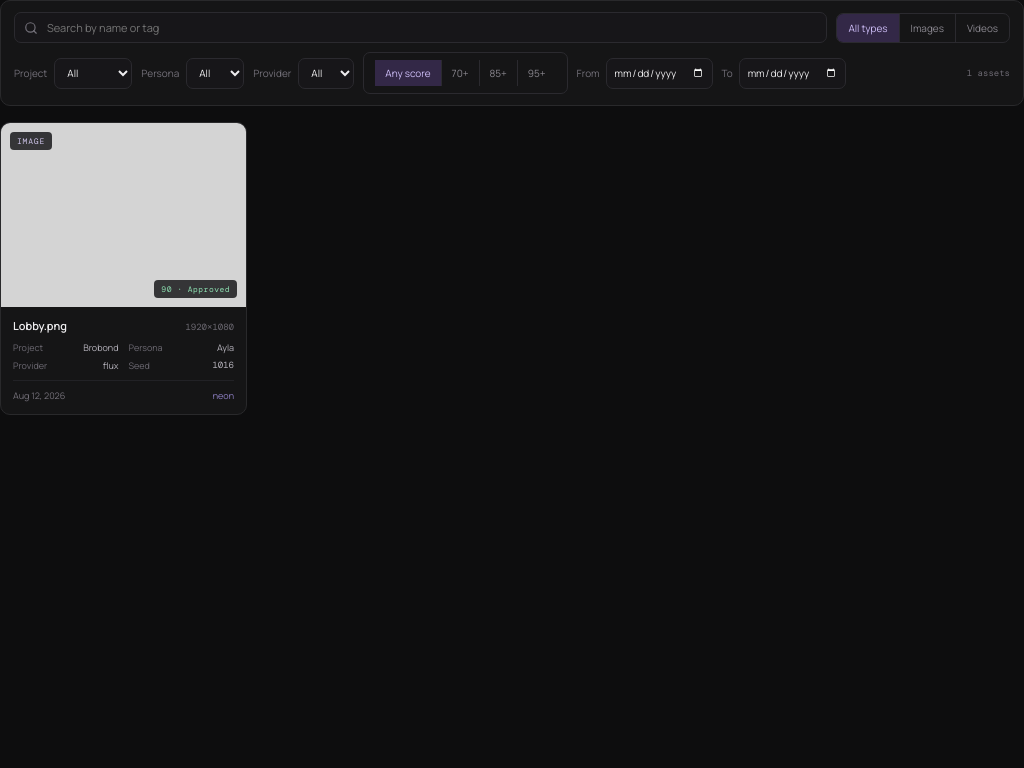
Test: preview › opens from a card and closes back to the grid
Click the button with aria-label "Open Lobby.png".
click(124, 268)  # box [0, 122, 247, 415]
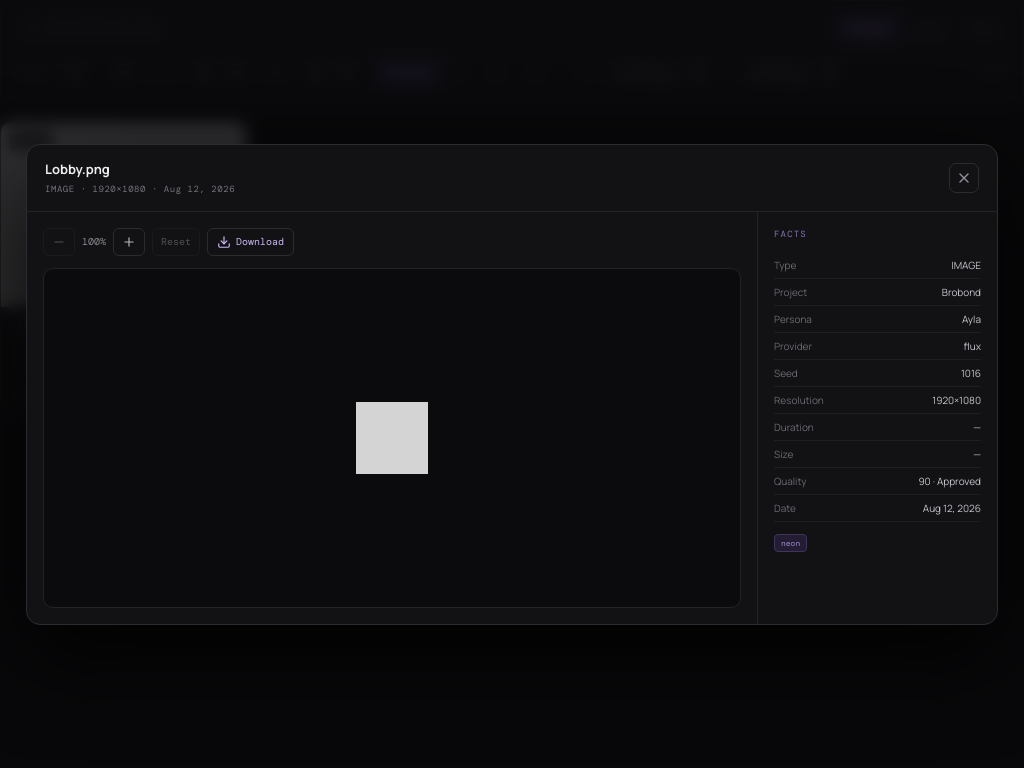
Check: the dialog with test id "al-lightbox" is shown
Press Escape
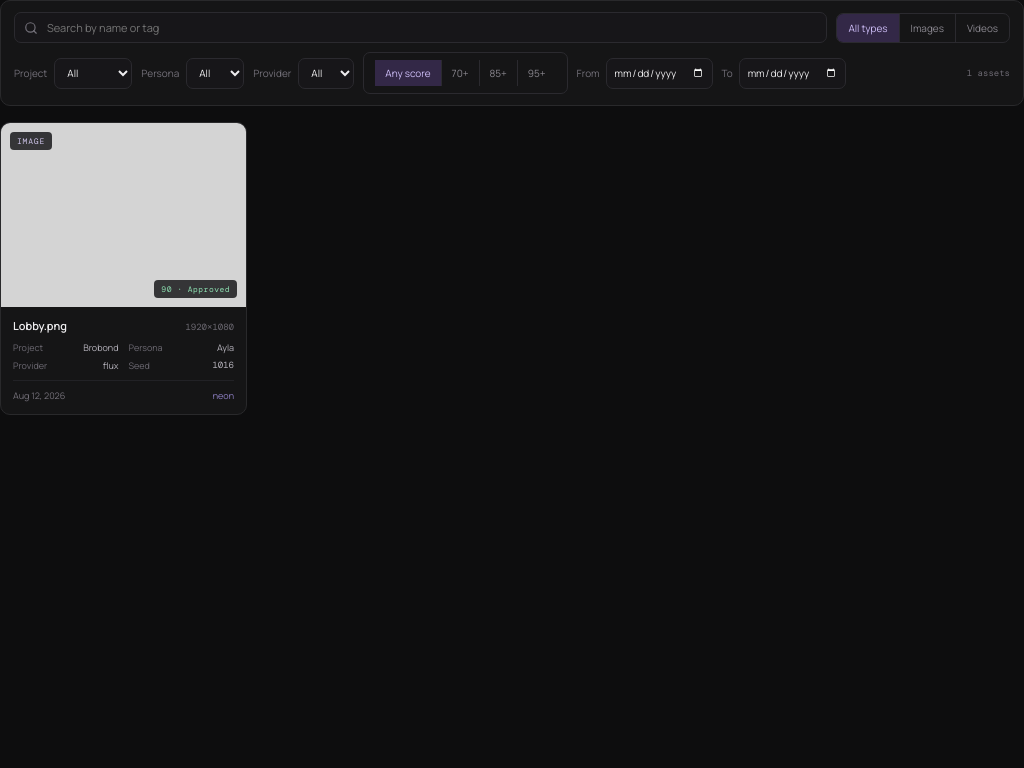
Check: the dialog with test id "al-lightbox" is gone
